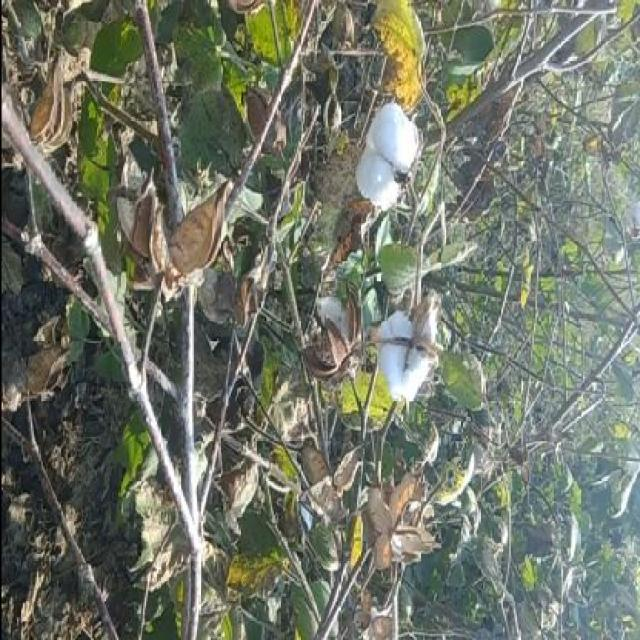cotton_ready: (360, 291, 443, 418), (341, 102, 427, 216)
